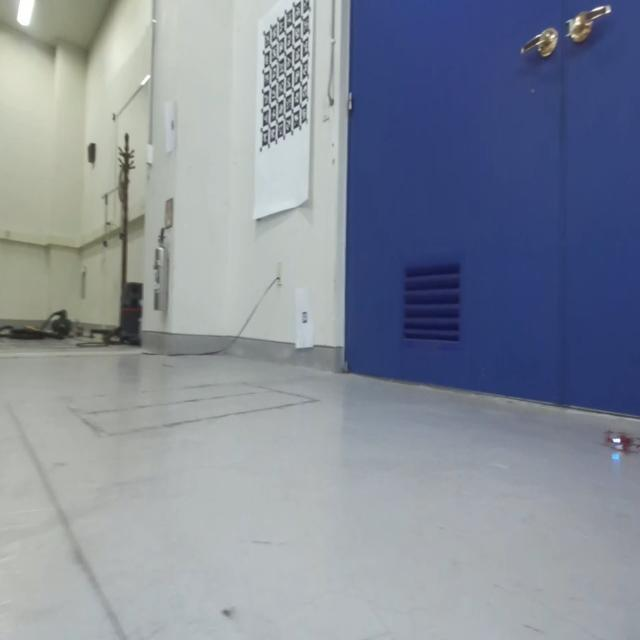crazyflie: (603, 422, 640, 459)
